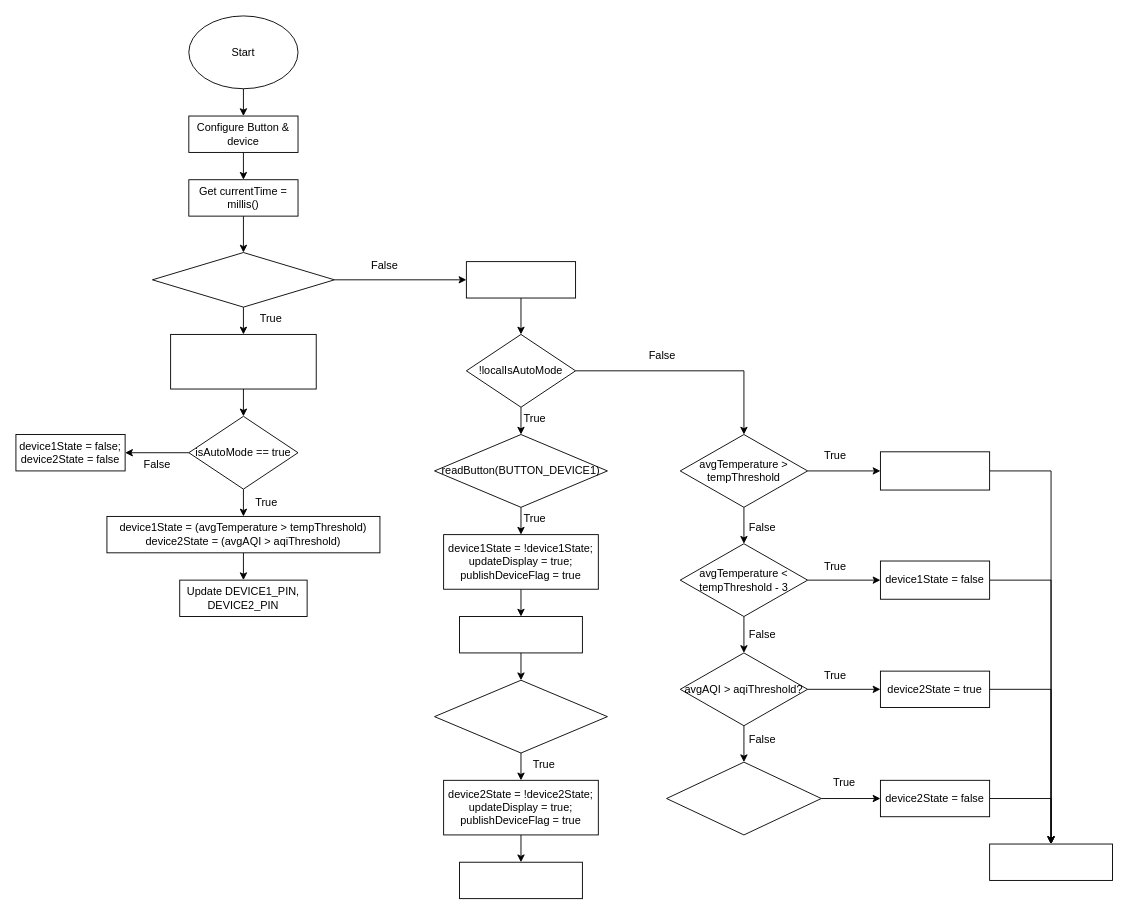
Image size: 1128x915. Some labels were removed from this diagram. The centre of each missing label's shape, as x and y in pixels:
"avgAQI < aqiThreshold - 10" goes at pixel 743 798.
"Copy isAutoMode to localIsAutoMode" goes at pixel 520 279.
"device1State = true" goes at pixel 935 470.
"isAutoMode = !isAutoMode; publishDeviceFlag = true; updateDisplay = true;" goes at pixel 243 361.
"readButton(BUTTON_DEVICE2)" goes at pixel 520 716.
"readButton(BUTTON_MODE)" goes at pixel 243 279.
"Update DEVICE1_PIN" goes at pixel 520 634.
"Update DEVICE1_PIN Update DEVICE2_PIN" goes at pixel 1050 861.
"Update DEVICE2_PIN" goes at pixel 520 880.
